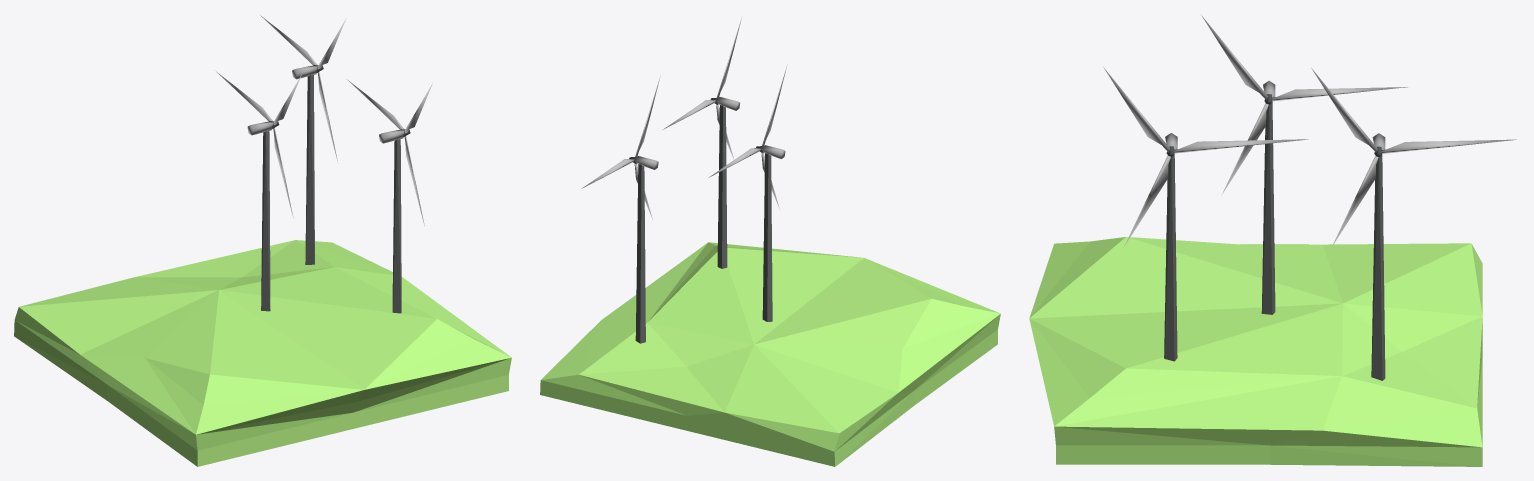
The model's file is building_windfarm.fbx.
3 views of the same model, side by side, from view 1: azimuth 30°, elevation 25°; view 2: azimuth 150°, elevation 25°; view 3: azimuth 270°, elevation 25° (orthographic). The views are drawn at different scales.
Visible parts, largest first — view 1: grass; view 2: grass; view 3: grass.
Boxes of the visible parts, x1=… form: grass: x1=14, y1=15, x2=511, y2=466; grass: x1=540, y1=17, x2=1000, y2=466; grass: x1=1029, y1=15, x2=1516, y2=466.
Size of the model in its own units: 51.6 by 47.41 by 57.47.
